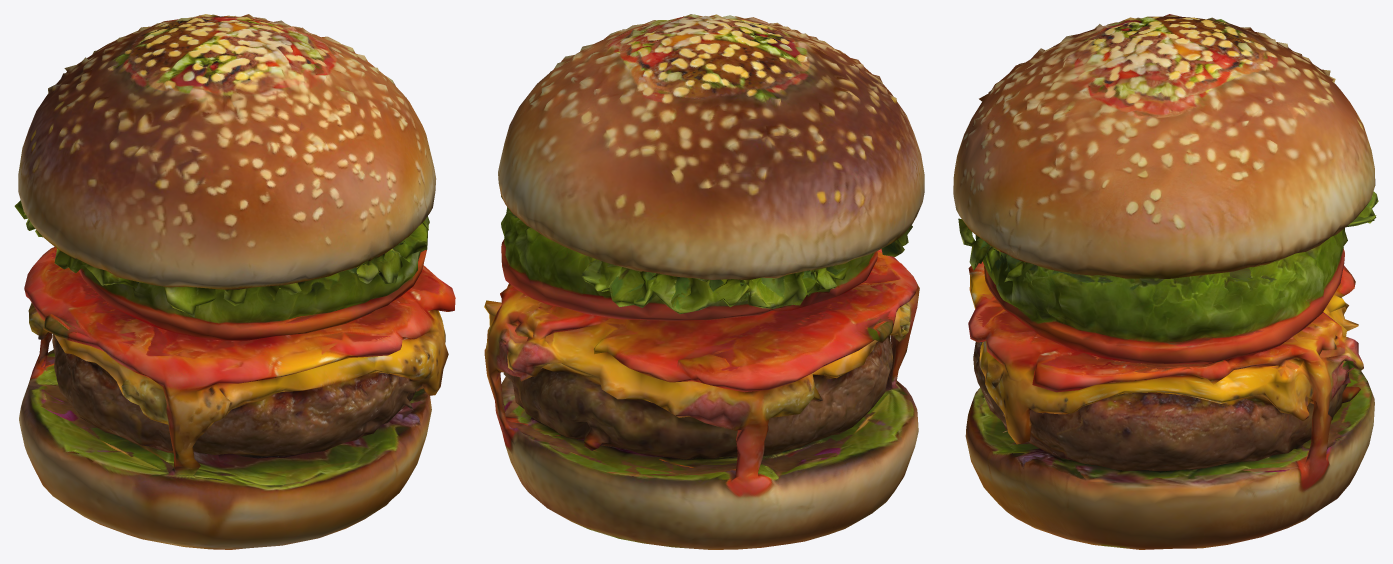
File: burger.glb
3 views of the same model, side by side, from view 1: azimuth 30°, elevation 25°; view 2: azimuth 150°, elevation 25°; view 3: azimuth 270°, elevation 25° (orthographic).
Size of the model in its own units: 1.03 by 1.2 by 1.03.
Materials: 1 (1 with a texture image).
